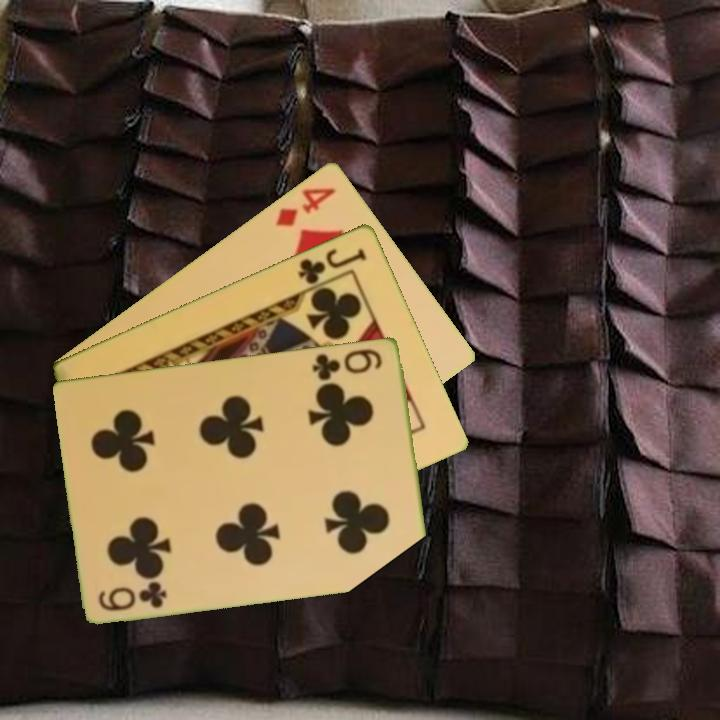4d: (272, 183, 339, 229)
6c: (309, 344, 386, 383), (95, 578, 171, 614)
Jc: (294, 244, 370, 287)
